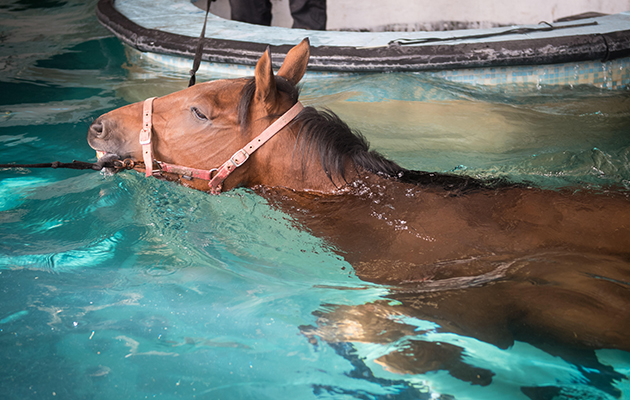Horse: (56, 33, 612, 357)
